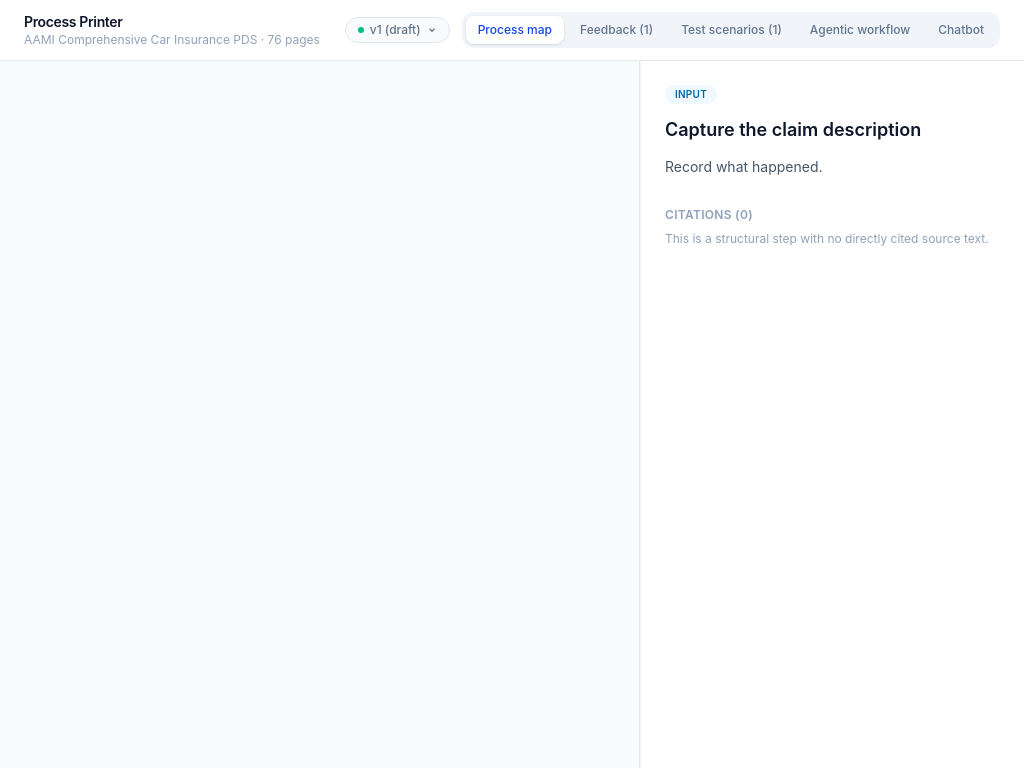
App › switching to the feedback tab shows the loaded issues, not the map
What coordinates should you click on to do the following:
click the button with test id "tab-feedback"
I would click on:
 (617, 30)
Its box is [568,16,665,44].
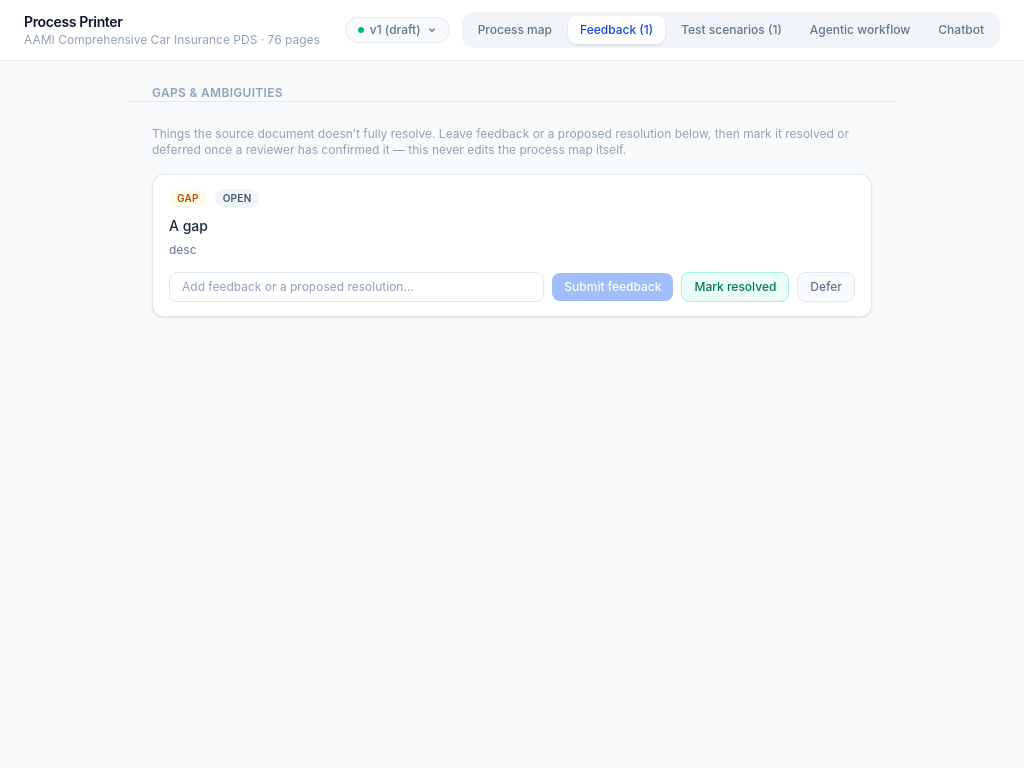
Now the element with test id "issues-panel" is shown, box [152,126,872,316]
Now the element with test id "process-map-canvas" is gone
Now the heading "A gap" is shown, box [169,217,208,234]
